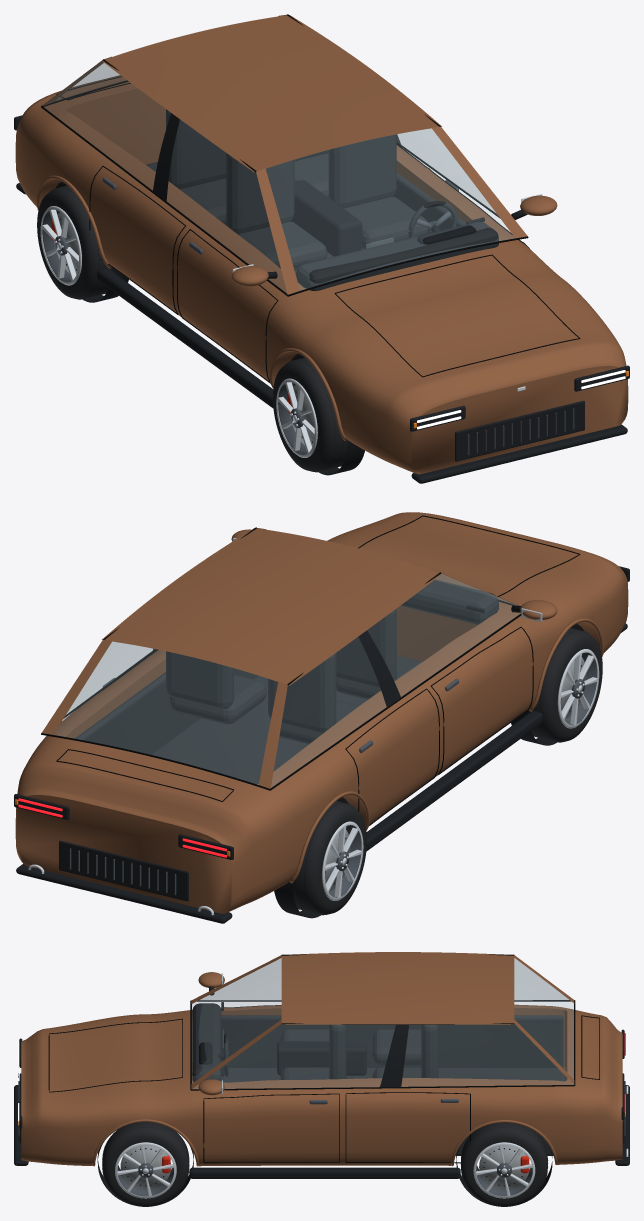
Rendered from estate.glb.
The picture shows the model from 3 angles, top to bottom: view 1: azimuth 30°, elevation 25°; view 2: azimuth 150°, elevation 25°; view 3: azimuth 270°, elevation 25°; orthographic projection. The views are drawn at different scales.
Visible parts, largest first — view 1: Sculpted body shell.012, Painted roof.012, Windshield.012, Side glass.024, Interior dashboard.012, Interior seat back.039, Interior seat back.038, Front grille housing.012, Tire.050, Rocker aero sill.024, Interior centre console.012, Tire.048 (+18 smaller); view 2: Sculpted body shell.012, Painted roof.012, Rear glass.012, Side glass.024, Interior cabin floor.012, Interior door card.025, Rear diffuser grille.012, Tire.048, Rocker aero sill.024, Interior seat back.040, Tire.050, Interior seat back.041 (+26 smaller); view 3: Sculpted body shell.012, Side glass.025, Painted roof.012, Interior door card.024, Windshield.012, Rear glass.012, Tire.051, Tire.049, Rocker aero sill.025, Side glass.024, Interior cabin floor.012, Interior centre console.012 (+24 smaller).
Part boxes in pixels (x1,y1,x2,y2): Sculpted body shell.012: [15, 75, 628, 474]; Painted roof.012: [109, 16, 434, 169]; Windshield.012: [266, 129, 514, 290]; Side glass.024: [43, 62, 286, 292]; Interior dashboard.012: [296, 221, 498, 290]; Interior seat back.039: [328, 134, 396, 208]; Interior seat back.038: [226, 153, 294, 234]; Front grille housing.012: [455, 400, 584, 461]; Tire.050: [273, 357, 347, 472]; Rocker aero sill.024: [97, 268, 273, 408]; Interior centre console.012: [290, 180, 362, 256]; Tire.048: [37, 185, 111, 299]; Sculpted body shell.012: [15, 512, 628, 913]; Painted roof.012: [109, 529, 434, 682]; Rear glass.012: [54, 642, 277, 784]; Side glass.024: [271, 574, 520, 787]; Interior cabin floor.012: [151, 676, 367, 784]; Interior door card.025: [75, 668, 258, 754]; Rear diffuser grille.012: [59, 840, 188, 901]; Tire.048: [292, 801, 366, 914]; Rocker aero sill.024: [366, 711, 542, 851]; Interior seat back.040: [268, 653, 336, 733]; Tire.050: [528, 628, 602, 742]; Interior seat back.041: [166, 651, 233, 709]; Sculpted body shell.012: [21, 1004, 622, 1166]; Side glass.025: [193, 1024, 573, 1088]; Painted roof.012: [281, 952, 514, 1023]; Interior door card.024: [221, 1015, 563, 1067]; Windshield.012: [192, 958, 281, 1082]; Rear glass.012: [514, 958, 573, 1078]; Tire.051: [102, 1122, 189, 1206]; Tire.049: [460, 1122, 547, 1206]; Rocker aero sill.025: [189, 1167, 460, 1178]; Side glass.024: [201, 959, 568, 999]; Interior cabin floor.012: [221, 1068, 566, 1082]; Interior centre console.012: [277, 1041, 366, 1075].
Bounding box in the file's own units: 2.33 × 1.61 × 5.08.
